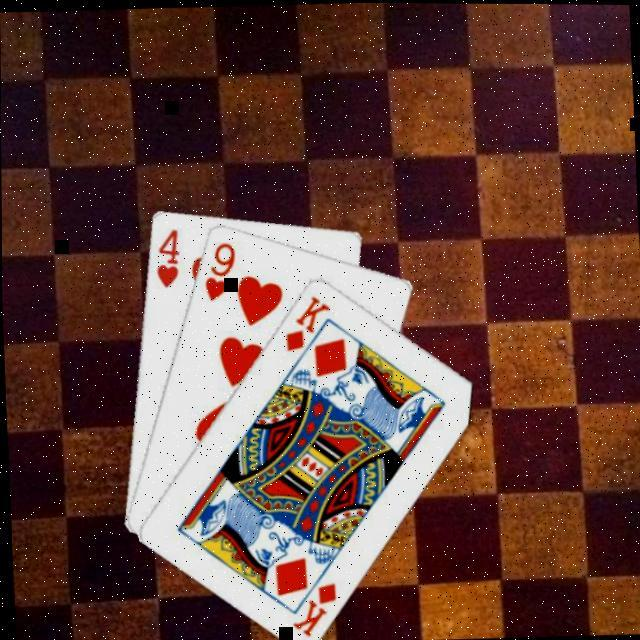4H: (149, 226, 181, 291)
9H: (197, 238, 237, 303)
KD: (278, 292, 334, 355), (285, 578, 339, 640)
